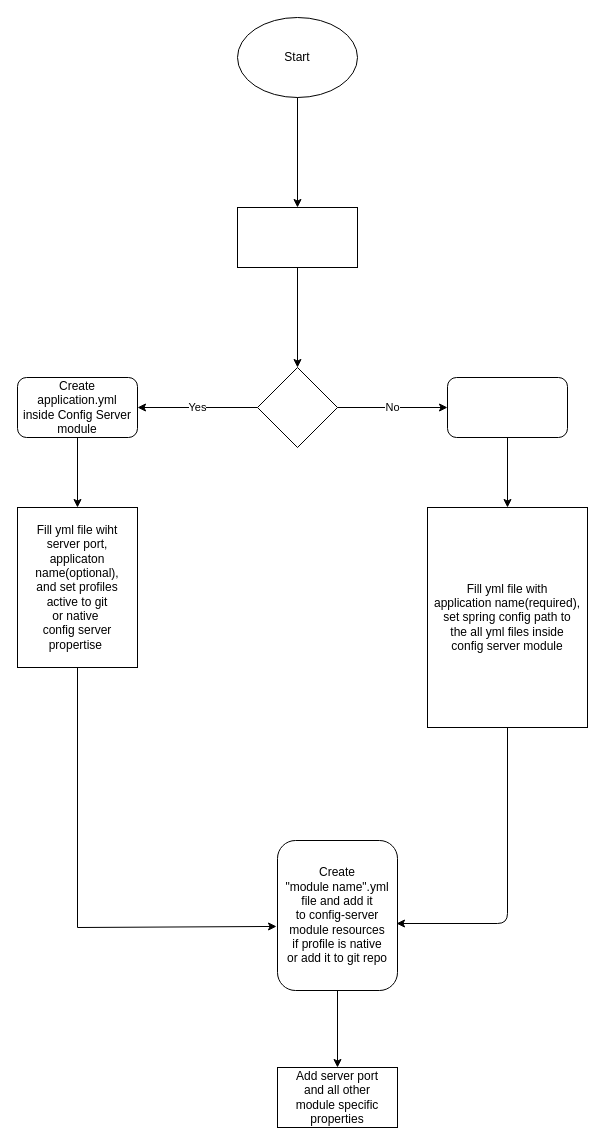
Image size: 605x1145. Some labels were removed from this diagram. Each missing label, with the centre of its shape:
"Create application.yml inside module" goes at pixel 507 407.
"Create module" goes at pixel 297 237.
"Is Config module" goes at pixel 297 407.
